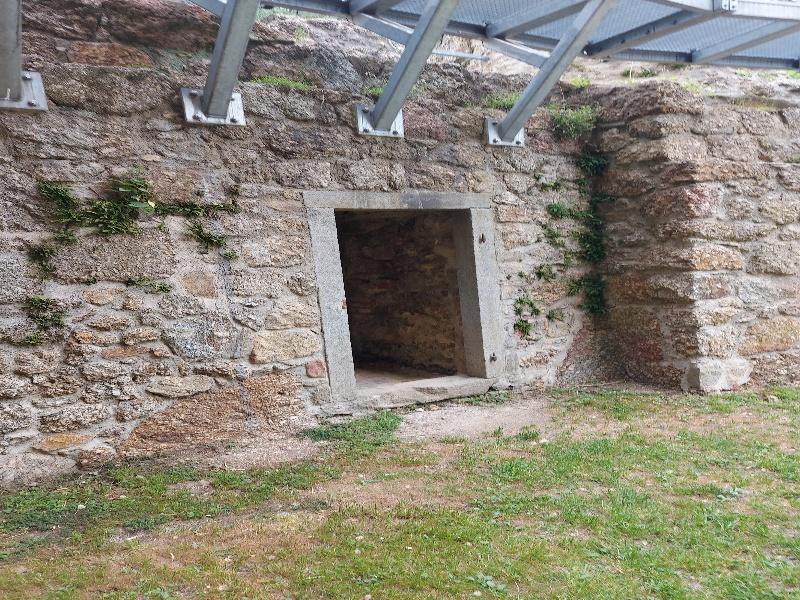door1: (295, 177, 516, 413)
